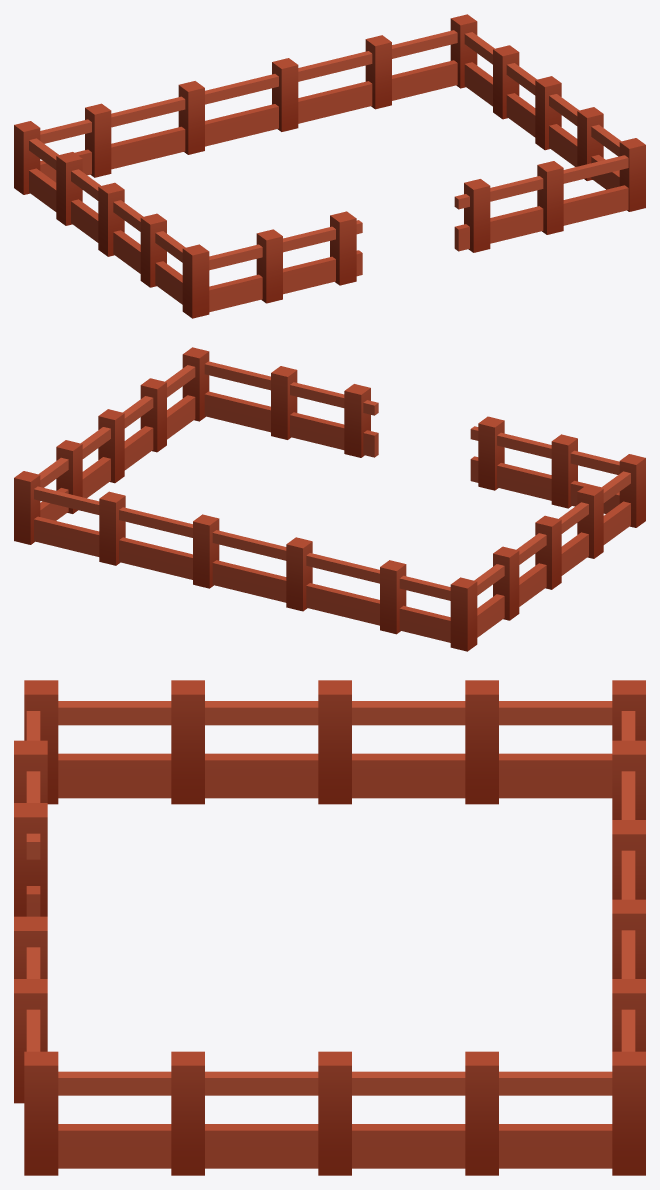
The model's file is Shrine_Fence.fbx.
3 renders of one model, top to bottom at view 1: azimuth 30°, elevation 25°; view 2: azimuth 150°, elevation 25°; view 3: azimuth 270°, elevation 25°, orthographic. The views are drawn at different scales.
Parts seen in each view (by area): view 1: Shrine_Fence; view 2: Shrine_Fence; view 3: Shrine_Fence.
Part boxes in pixels (x1=…): Shrine_Fence: x1=14, y1=14, x2=645, y2=318; Shrine_Fence: x1=14, y1=347, x2=645, y2=651; Shrine_Fence: x1=14, y1=680, x2=645, y2=1175.
Bounding box in the file's own units: 6.77 × 0.9 × 4.69.
1 material, 1 textured.
